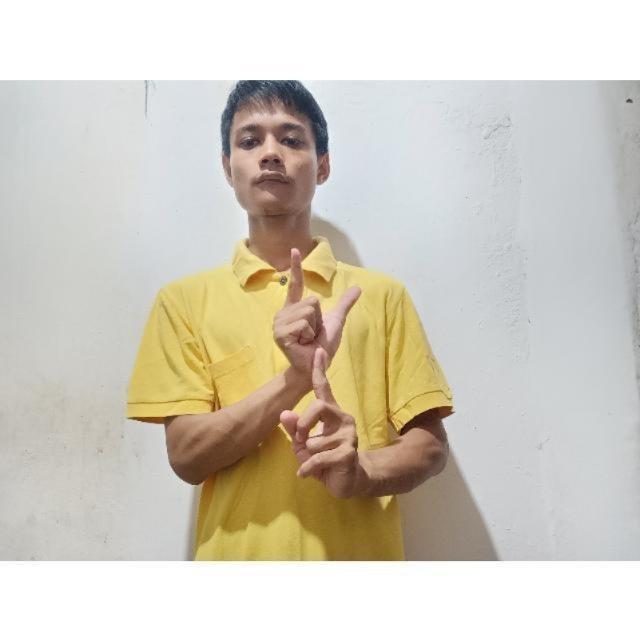Y: (262, 235, 373, 504)
